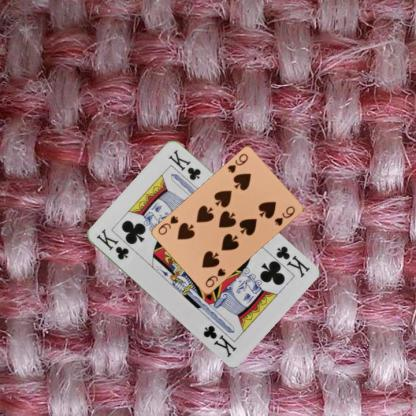9s: (203, 266, 227, 289), (225, 151, 249, 174)
Kc: (273, 243, 311, 279), (93, 226, 130, 261)
